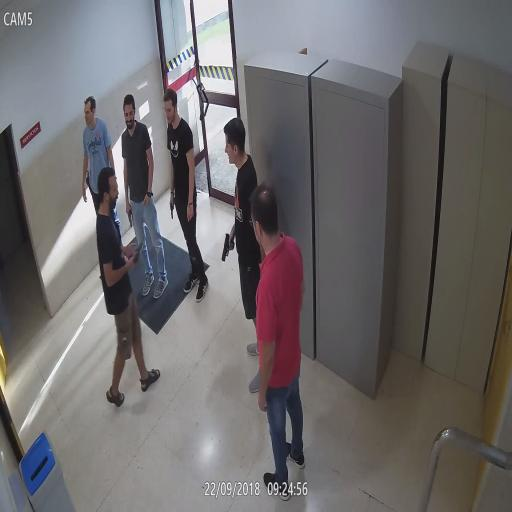Handgun: (220, 229, 236, 271), (129, 239, 143, 271), (124, 199, 134, 229), (169, 198, 176, 222), (84, 166, 90, 194)
